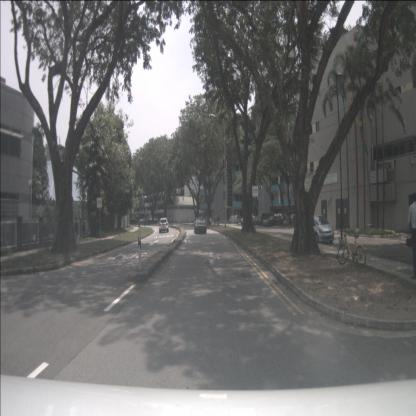human-pedestrian-adult: (406, 191, 416, 280), (74, 217, 80, 248), (214, 214, 216, 226), (218, 214, 220, 226), (216, 214, 218, 224)
vehicle-bicycle: (337, 232, 366, 268)
vehicle-car: (300, 214, 334, 244), (193, 216, 207, 235), (262, 216, 284, 228), (258, 212, 274, 226), (159, 218, 169, 233), (229, 215, 240, 224)
